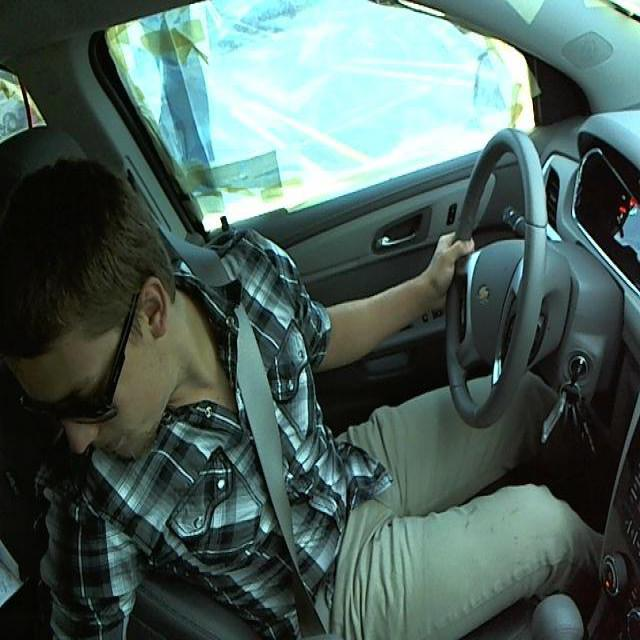seatbelt: (230, 318, 343, 634)
